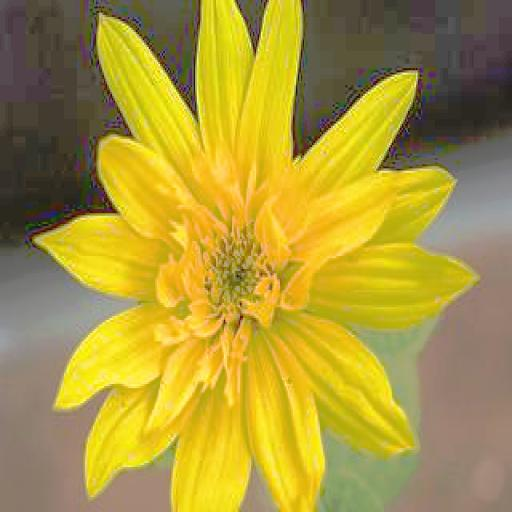sunflower: (34, 4, 476, 512)
